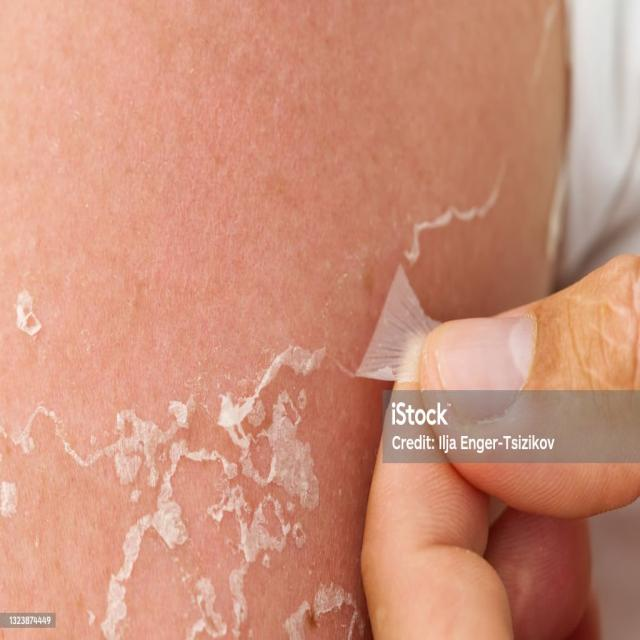Dry-Skin: (273, 76, 449, 315), (169, 346, 323, 577), (120, 42, 283, 250), (346, 20, 476, 175), (34, 420, 108, 633), (8, 256, 112, 362), (334, 482, 374, 602)
